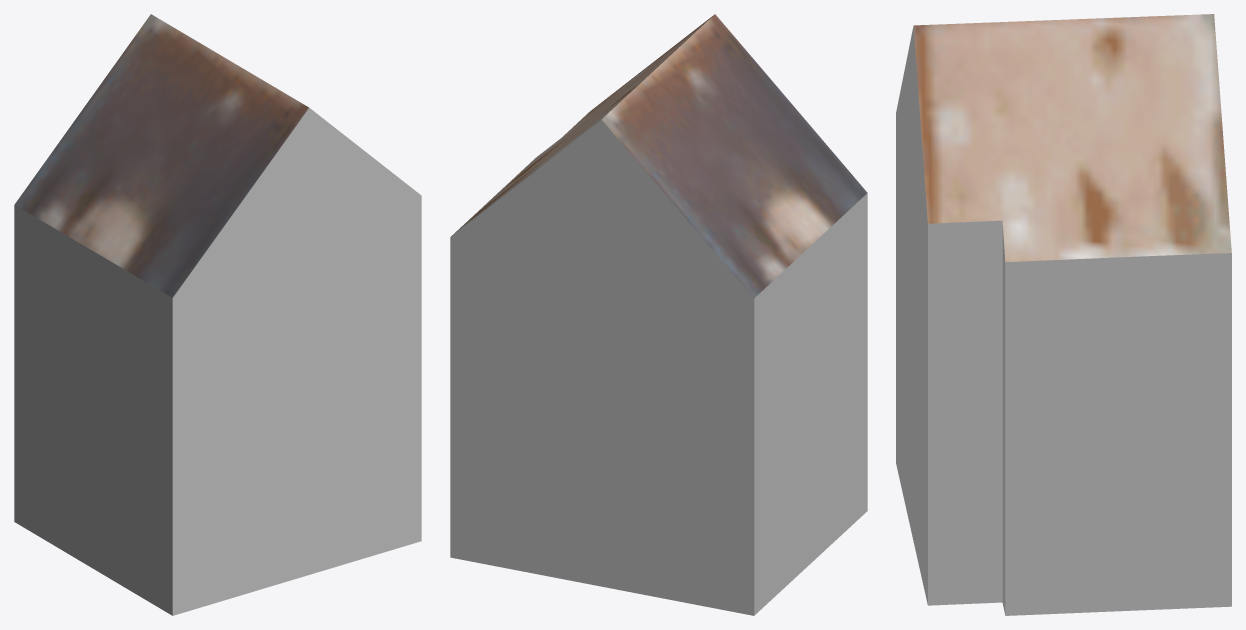
File: DEBW_0010007Tx8O.gltf
3 renders of one model, left to right at view 1: azimuth 30°, elevation 25°; view 2: azimuth 150°, elevation 25°; view 3: azimuth 270°, elevation 25°, orthographic. The views are drawn at different scales.
Visible parts, largest first — view 1: Z_UP; view 2: Z_UP; view 3: Z_UP.
Boxes of the visible parts, box(x1,y1,x2,y2) form: Z_UP: box(14, 14, 421, 615); Z_UP: box(450, 14, 867, 615); Z_UP: box(896, 14, 1231, 615).
Size of the model in its own units: 12.24 by 17.93 by 10.57.
2 materials, 1 textured.
